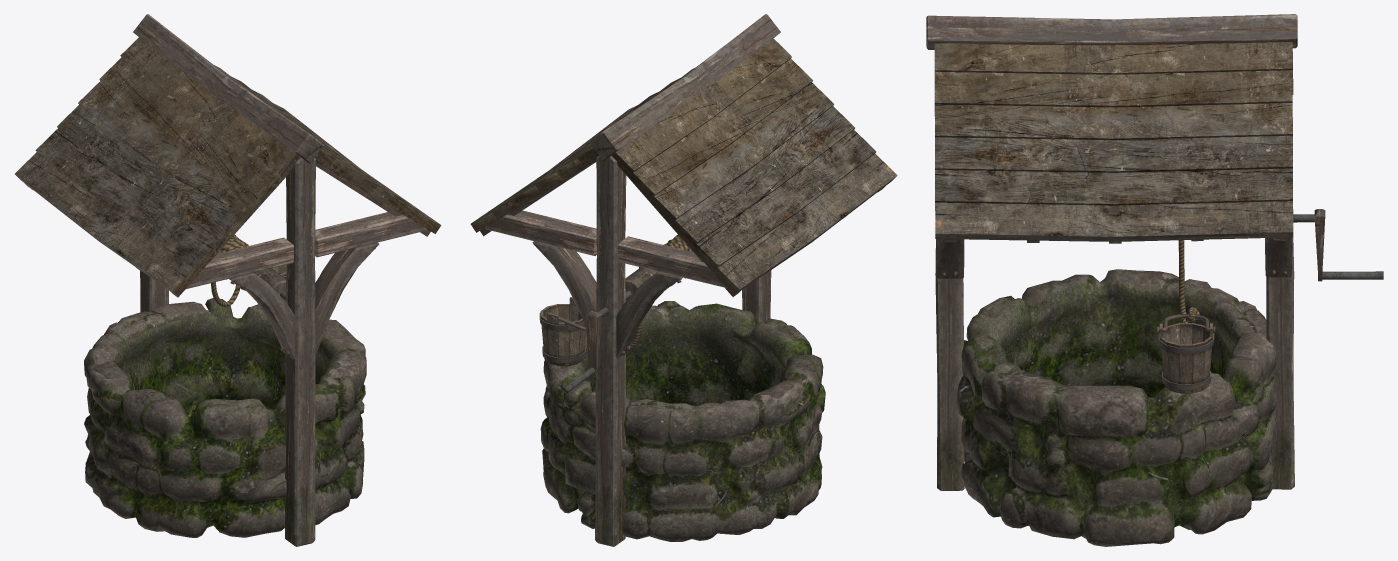
The model's file is well.glb.
The picture shows the model from 3 angles, left to right: view 1: azimuth 30°, elevation 25°; view 2: azimuth 150°, elevation 25°; view 3: azimuth 270°, elevation 25°; orthographic projection. The views are drawn at different scales.
Parts seen in each view (by area): view 1: Well_LP; view 2: Well_LP; view 3: Well_LP.
Boxes of the visible parts, <box> form: Well_LP: <box>15,14,441,546</box>; Well_LP: <box>470,14,897,546</box>; Well_LP: <box>926,14,1383,546</box>.
Bounding box in the file's own units: 181 × 268 × 235.
Materials: 4 (4 with a texture image).
